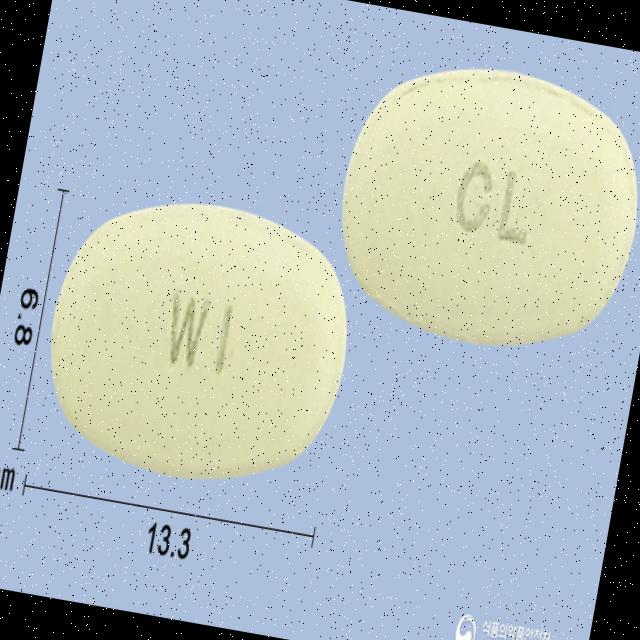Clathron - 500mg: (27, 175, 370, 509), (320, 45, 640, 366)
